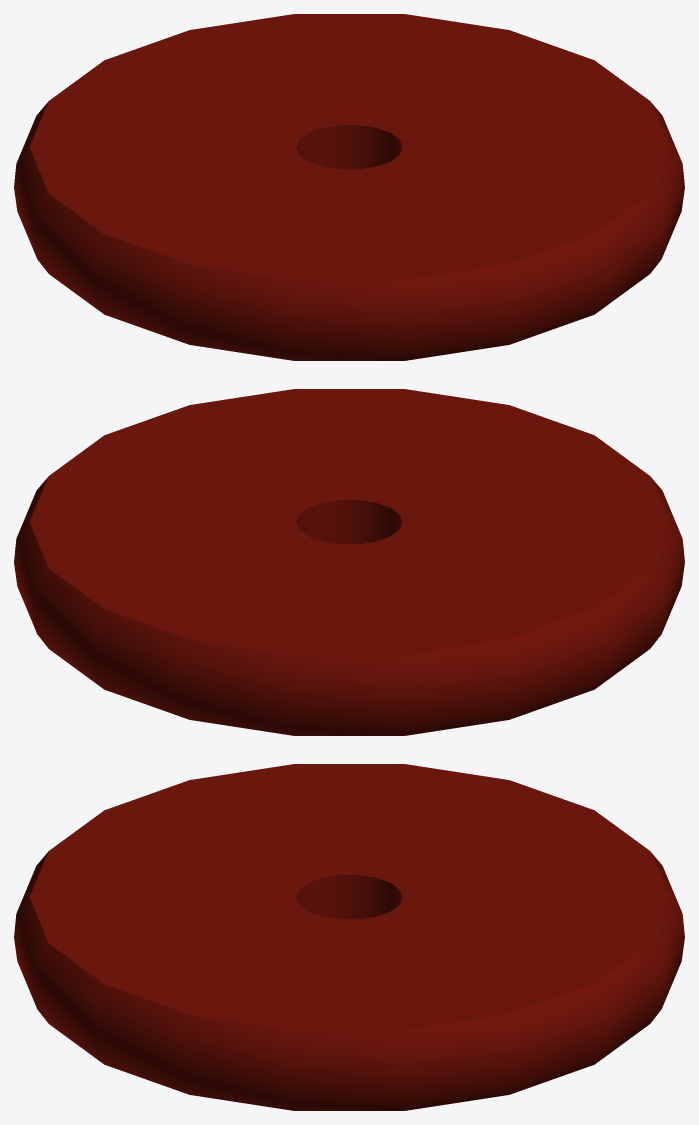
File: ThrowProp_RainbowStackerRing_01.FBX
The picture shows the model from 3 angles, top to bottom: view 1: azimuth 30°, elevation 25°; view 2: azimuth 150°, elevation 25°; view 3: azimuth 270°, elevation 25°; orthographic projection.
Visible parts, largest first — view 1: RainbowStackerRing_01; view 2: RainbowStackerRing_01; view 3: RainbowStackerRing_01.
Boxes of the visible parts, x1=… form: RainbowStackerRing_01: x1=14, y1=14, x2=684, y2=360; RainbowStackerRing_01: x1=14, y1=389, x2=684, y2=735; RainbowStackerRing_01: x1=14, y1=764, x2=684, y2=1110.
Size of the model in its own units: 18.59 by 2.5 by 18.88.
1 material, 1 textured.
